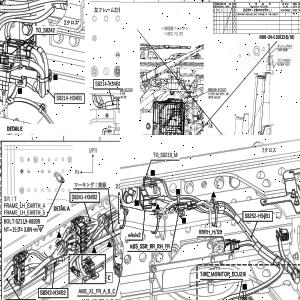PartNumber: (15, 217, 41, 225), (244, 212, 270, 220), (39, 289, 67, 296), (56, 95, 83, 102), (71, 193, 98, 200), (94, 80, 120, 87), (208, 87, 226, 91), (120, 87, 133, 90)
